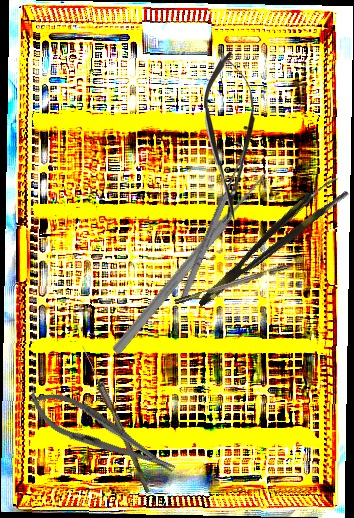Chopper: (172, 253, 306, 305)
Hook Surgical: (170, 139, 252, 307)
Micro Scissor: (203, 51, 257, 221)
Needle Holder: (20, 379, 183, 488)
Pusher: (110, 168, 272, 357)
Surgical Spoon: (78, 344, 154, 494)
Tissue Forceps: (187, 173, 351, 310)
